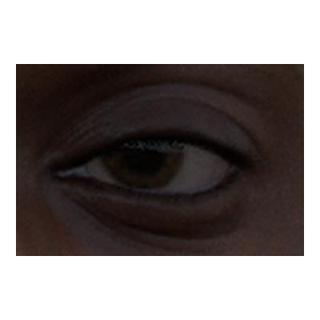pupil: (124, 131, 162, 169)
